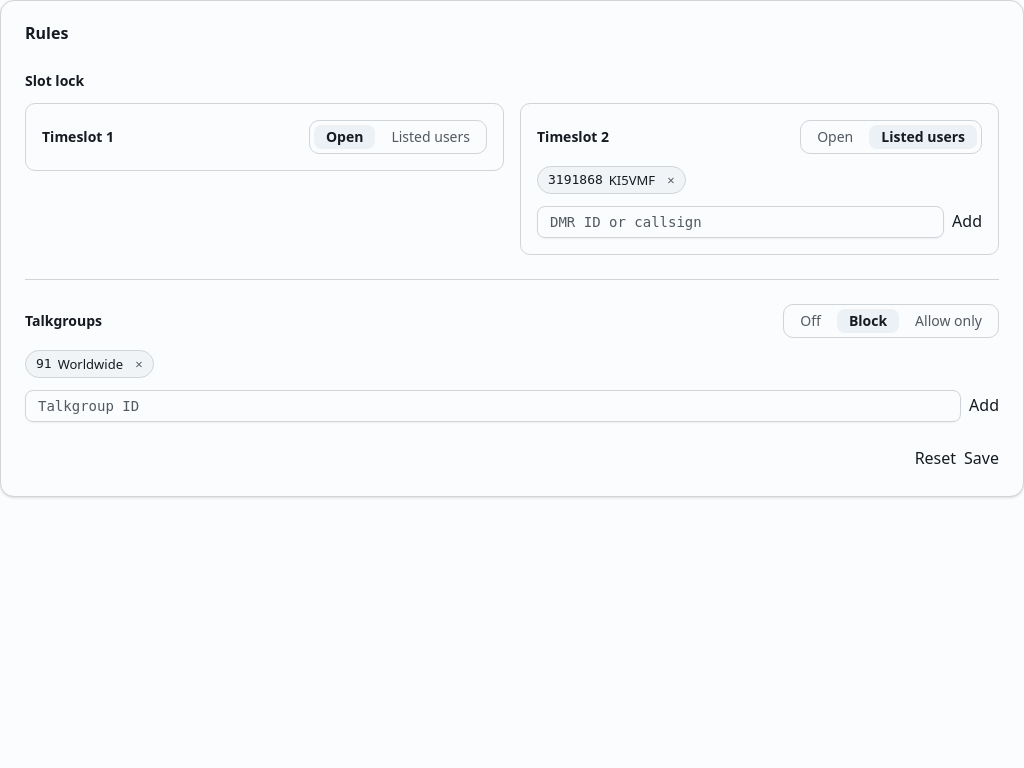
Test: RepeaterRulesCard › shows an unknown user and adds nothing
This screenshot has width=1024, height=768.
In the field with test id "ts2-add-user": (741, 222) [537, 206, 944, 238], type "N0NE"
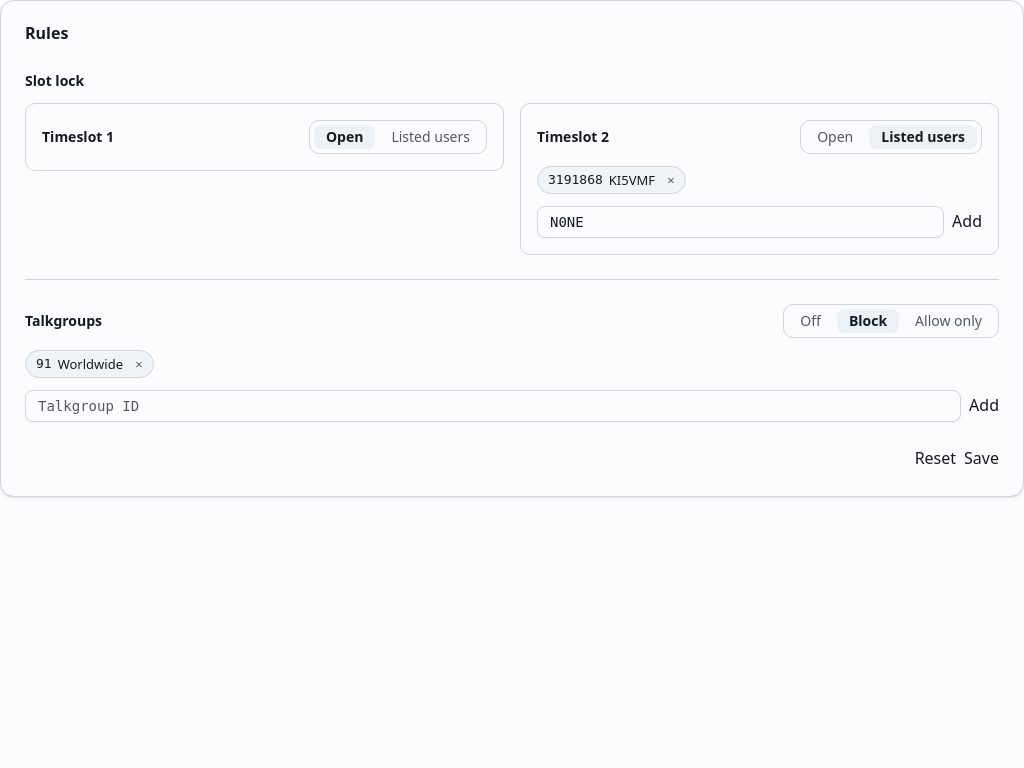
Submit the form "Add" below "KI5VMF", box [537, 206, 982, 238]
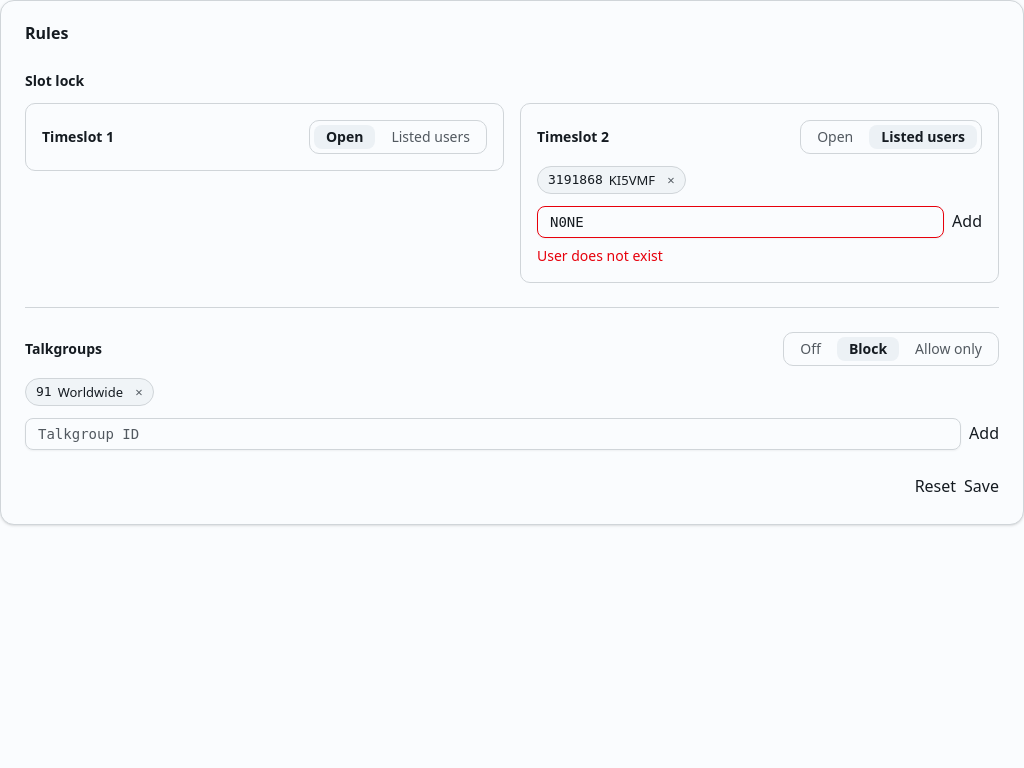
Result: the text "User does not exist" is shown at [537, 246, 663, 265]
